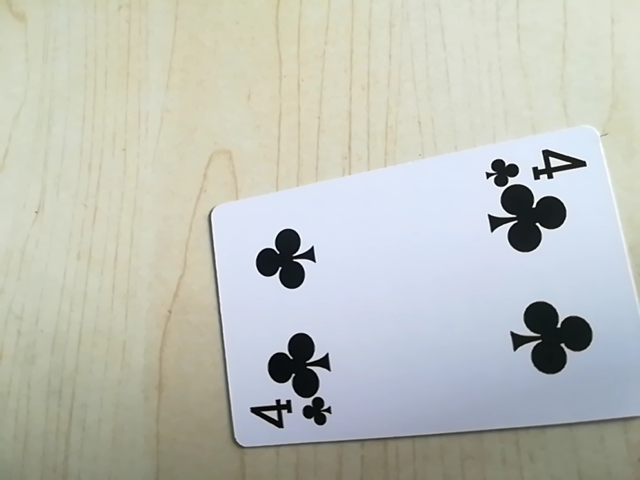mh 4: (482, 145, 589, 188), (243, 393, 339, 438)
